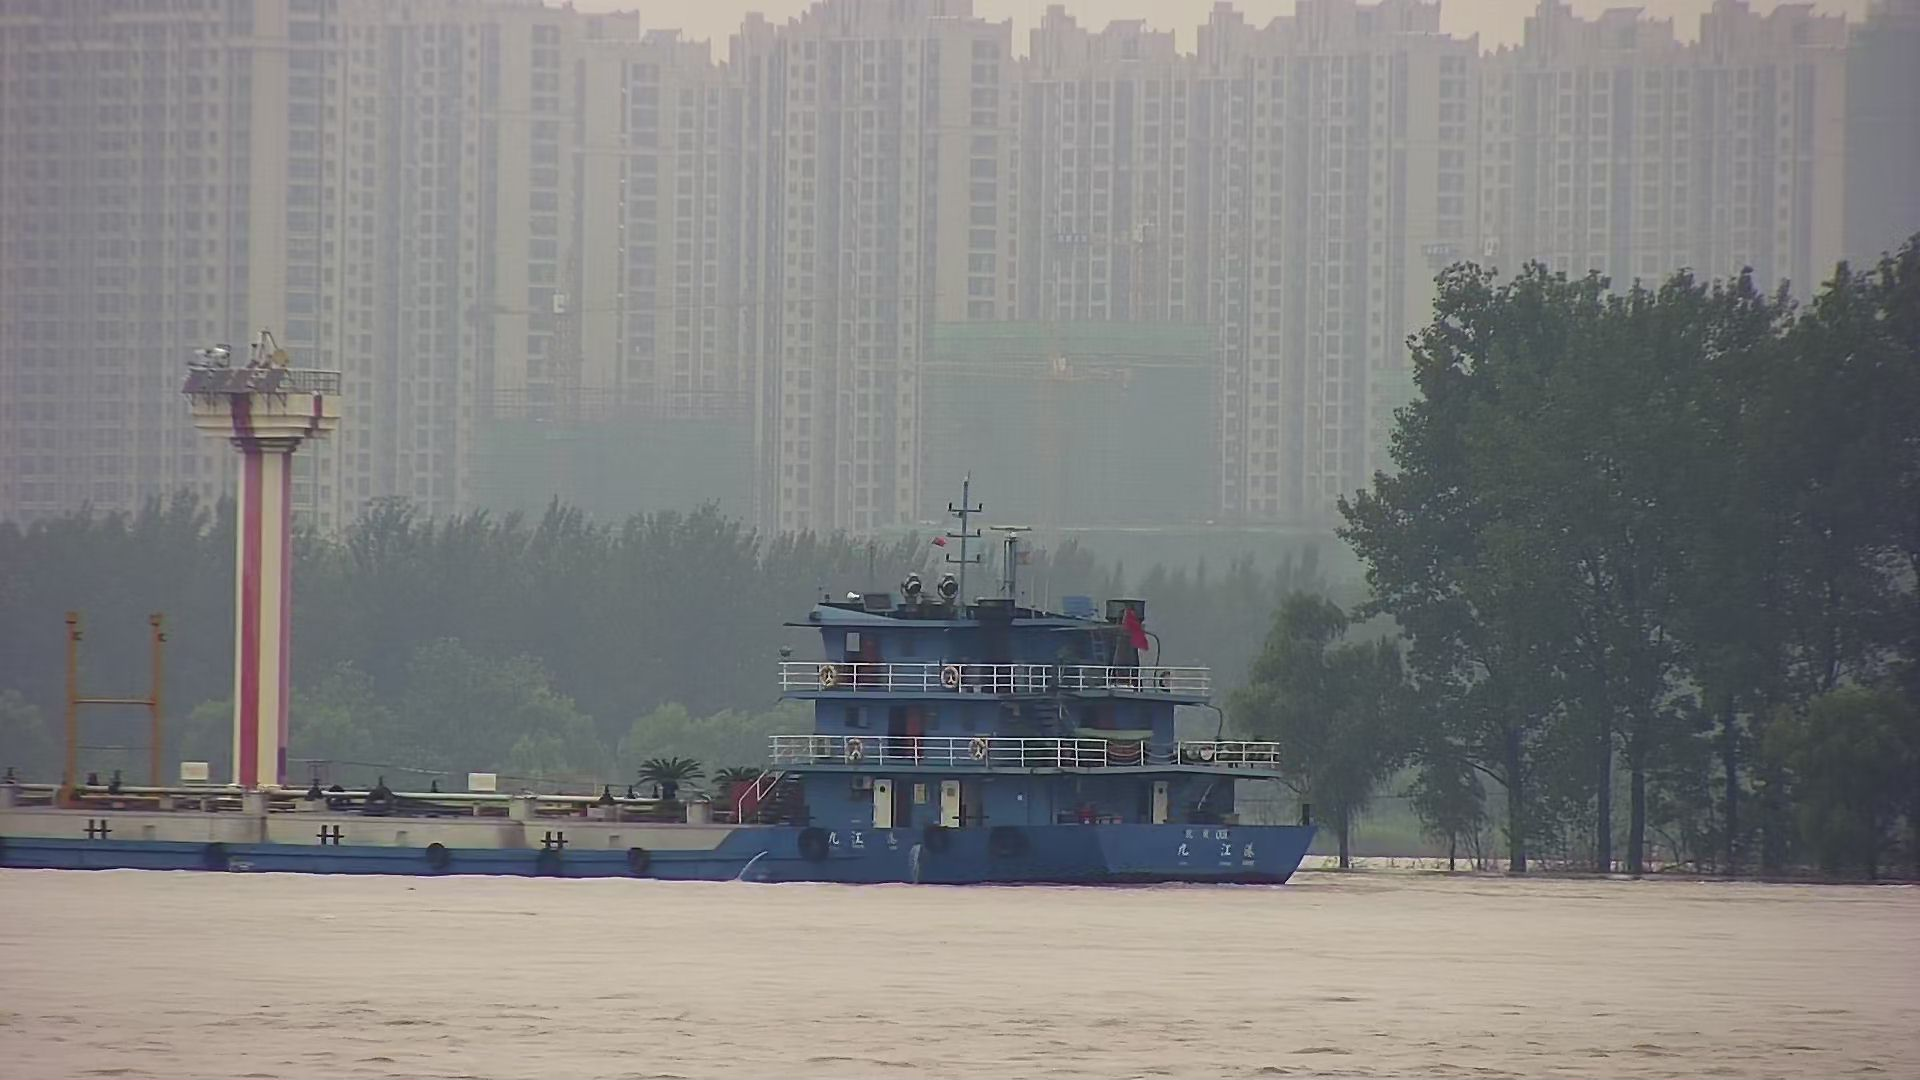platform: (178, 331, 339, 829)
ship: (1, 469, 1317, 897)
tree: (1480, 269, 1753, 886), (1348, 264, 1575, 876), (1644, 277, 1857, 890), (1745, 236, 1920, 881), (1222, 578, 1422, 873)
